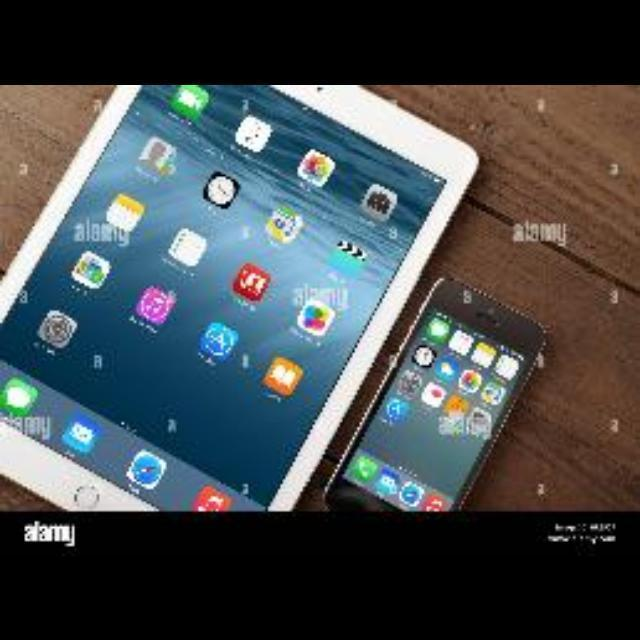PhoneUse: (322, 272, 546, 526)
